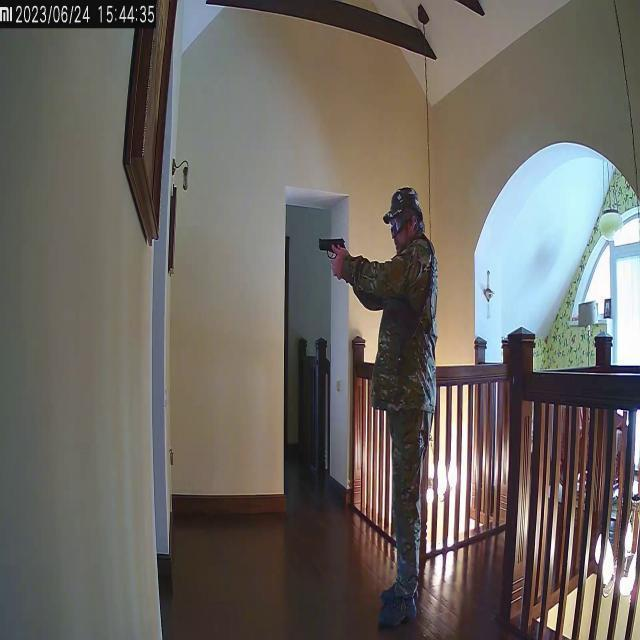pistol: (318, 234, 346, 262)
